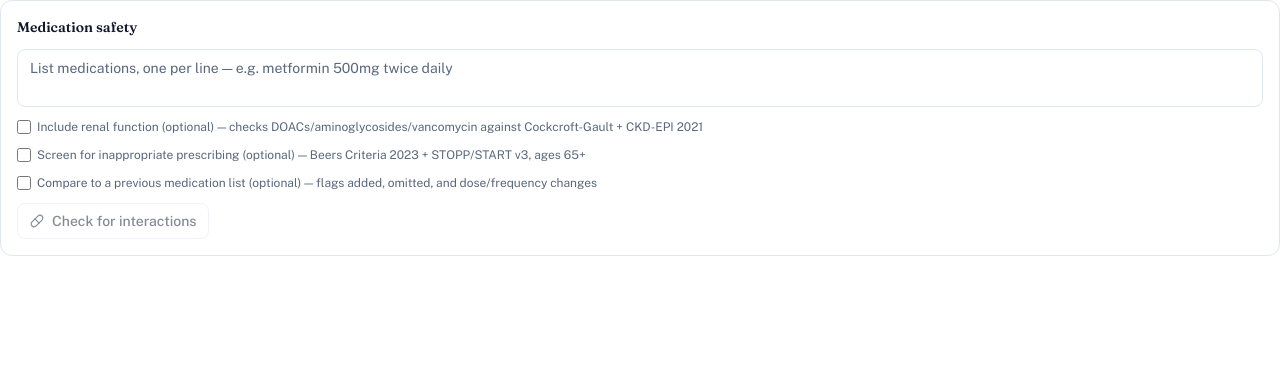
Test case: MedicationPanel › PIP screening › reveals only the age field and conditions input when the checkbox is checked
The width and height of the screenshot is (1280, 391).
Check: the text "age (years)" is not shown
Click the checkbox labelled "Screen for inappropriate".
click(24, 155)  # box [17,148,31,162]
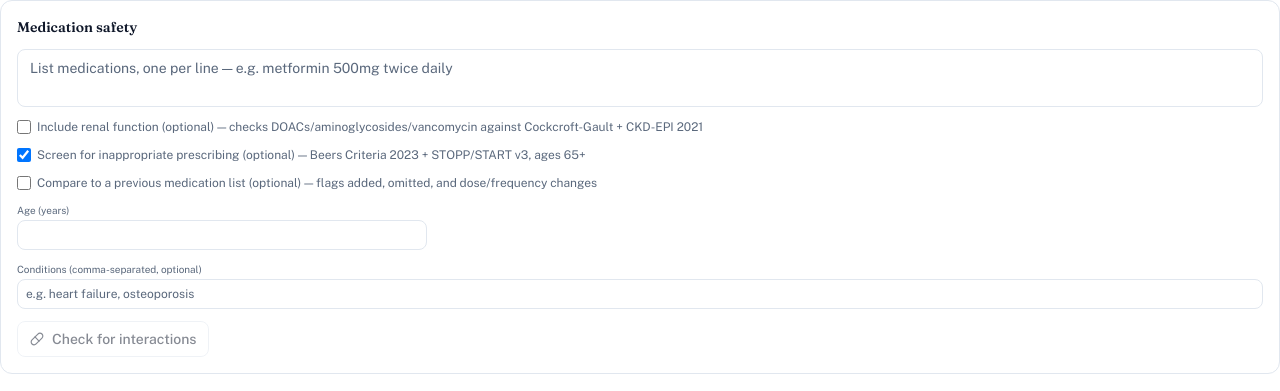
Check: the text "Age (years)" is shown, box [17,203,427,250]
Check: the text "Conditions (comma-separated, optional)" is shown, box [17,262,1263,309]
